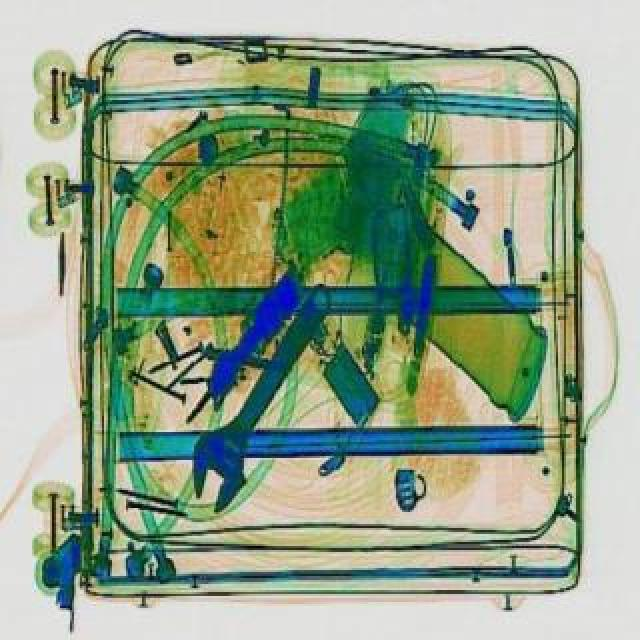scissors: (168, 270, 358, 516)
